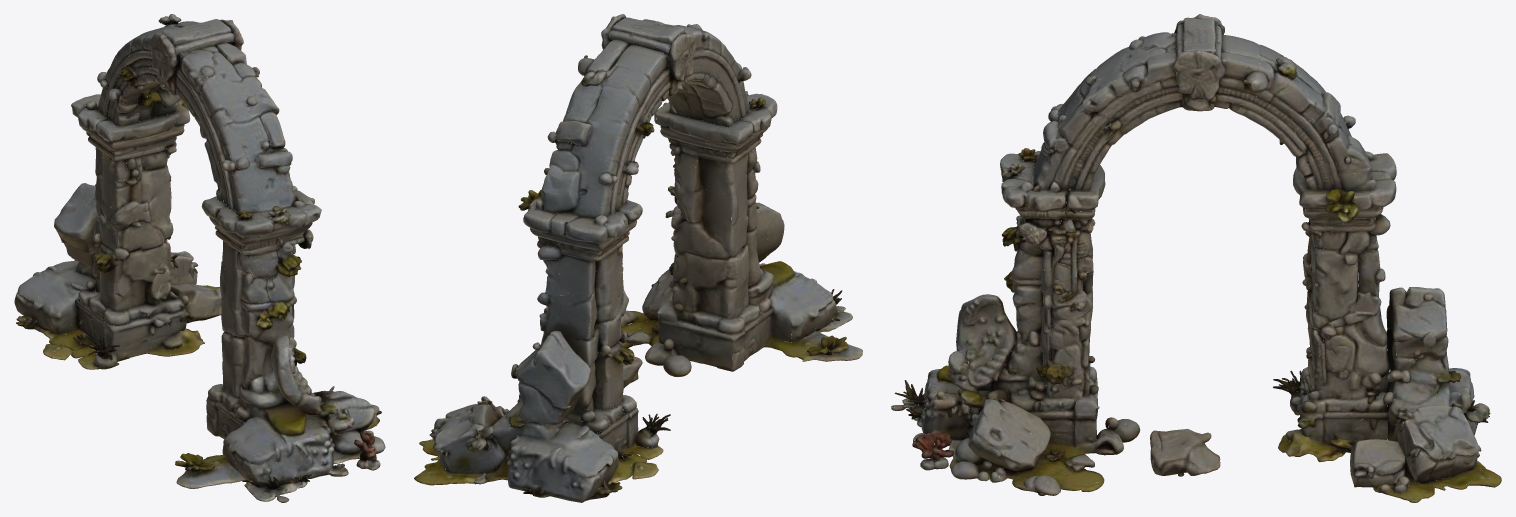
The model's file is Ruin.glb.
3 renders of one model, left to right at view 1: azimuth 30°, elevation 25°; view 2: azimuth 150°, elevation 25°; view 3: azimuth 270°, elevation 25°, orthographic. The views are drawn at different scales.
Parts seen in each view (by area): view 1: tripo_node_f2ef9e18-538d-4231-bf65-5fb28a3f5c76; view 2: tripo_node_f2ef9e18-538d-4231-bf65-5fb28a3f5c76; view 3: tripo_node_f2ef9e18-538d-4231-bf65-5fb28a3f5c76.
Boxes of the visible parts, bbox=[...] form: tripo_node_f2ef9e18-538d-4231-bf65-5fb28a3f5c76: bbox=[14, 14, 385, 502]; tripo_node_f2ef9e18-538d-4231-bf65-5fb28a3f5c76: bbox=[414, 14, 862, 502]; tripo_node_f2ef9e18-538d-4231-bf65-5fb28a3f5c76: bbox=[891, 14, 1501, 502].
Bounding box in the file's own units: 0.4951 × 0.7326 × 1.
Materials: 1 (1 with a texture image).
